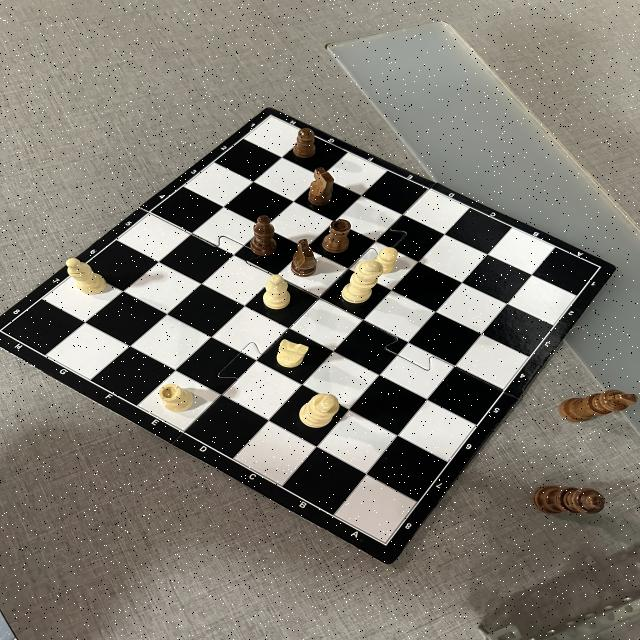Black-Bishop: (250, 216, 277, 256)
Black-King: (560, 388, 638, 422)
Black-Knight: (308, 167, 334, 206), (291, 239, 317, 277)
Black-Pawn: (293, 128, 316, 158)
Black-Queen: (533, 486, 607, 514)
Black-Rook: (322, 219, 352, 253)
White-Bishop: (66, 258, 108, 294), (263, 275, 291, 309)
White-King: (300, 393, 340, 428)
White-Knight: (276, 340, 308, 368)
White-Pawn: (372, 247, 398, 274)
White-Queen: (342, 260, 384, 304)
White-Rook: (159, 383, 194, 412)
